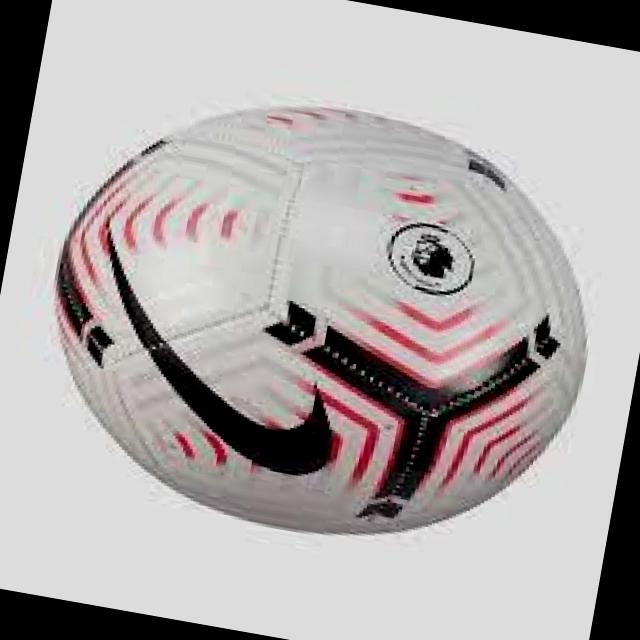Soccer Ball: (5, 58, 625, 580)
